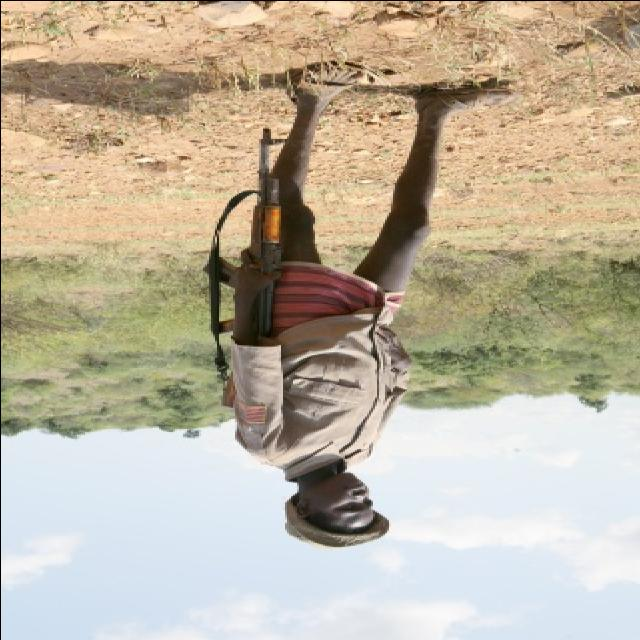rifle: (193, 132, 297, 418)
